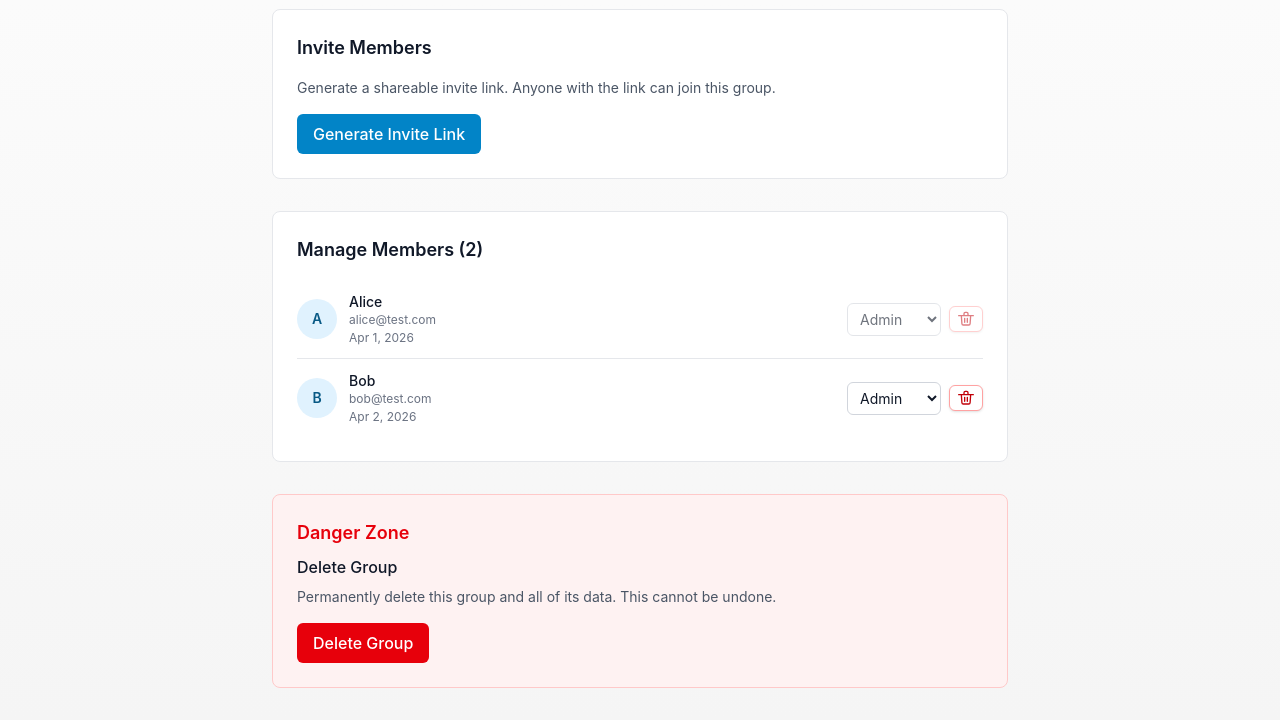
Test: GroupSettingsPage › opens the delete dialog and disables confirm until name matches
(page scrolled)
Click the button with test id "group-settings-open-delete-btn" at [363, 643], box left=297, top=623, right=429, bottom=663
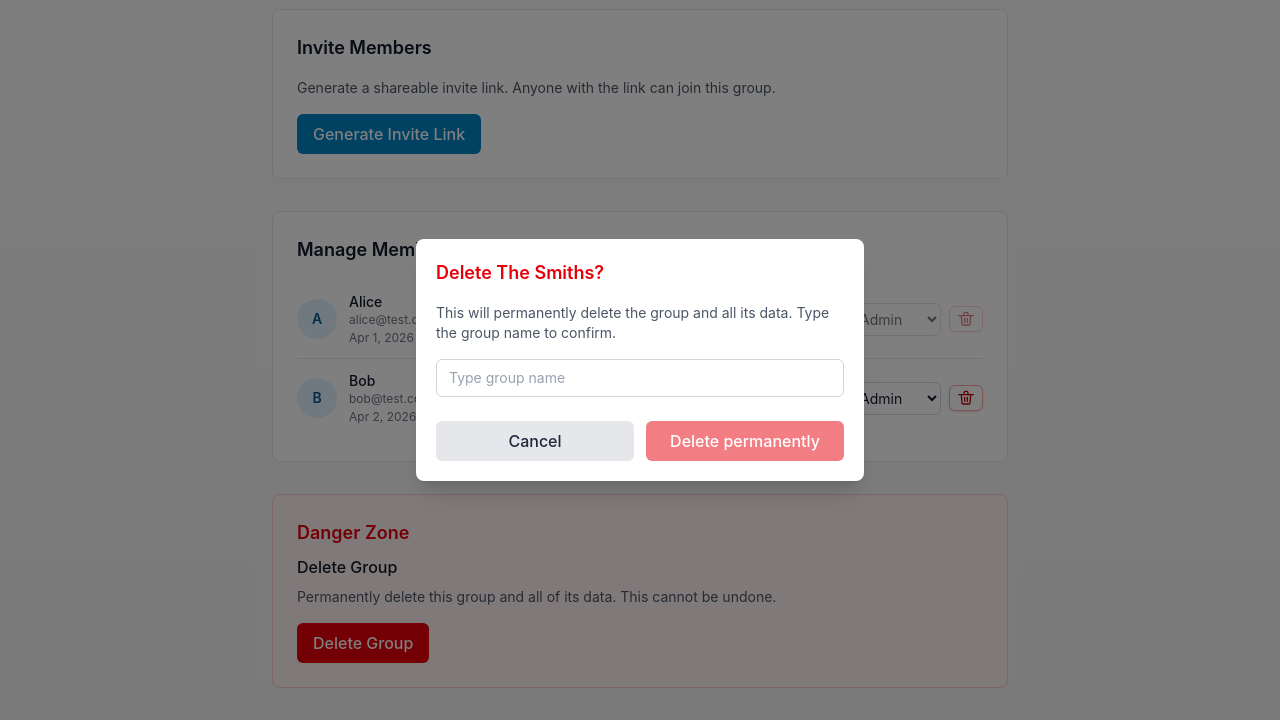
Expected: the dialog with test id "group-settings-delete-dialog" is shown, left=416, top=239, right=864, bottom=481
Expected: the button with test id "group-settings-delete-confirm-btn" is disabled, left=646, top=421, right=844, bottom=461
Type "wrong" into the field with test id "group-settings-delete-confirm-input" at [640, 378], box left=436, top=359, right=844, bottom=397
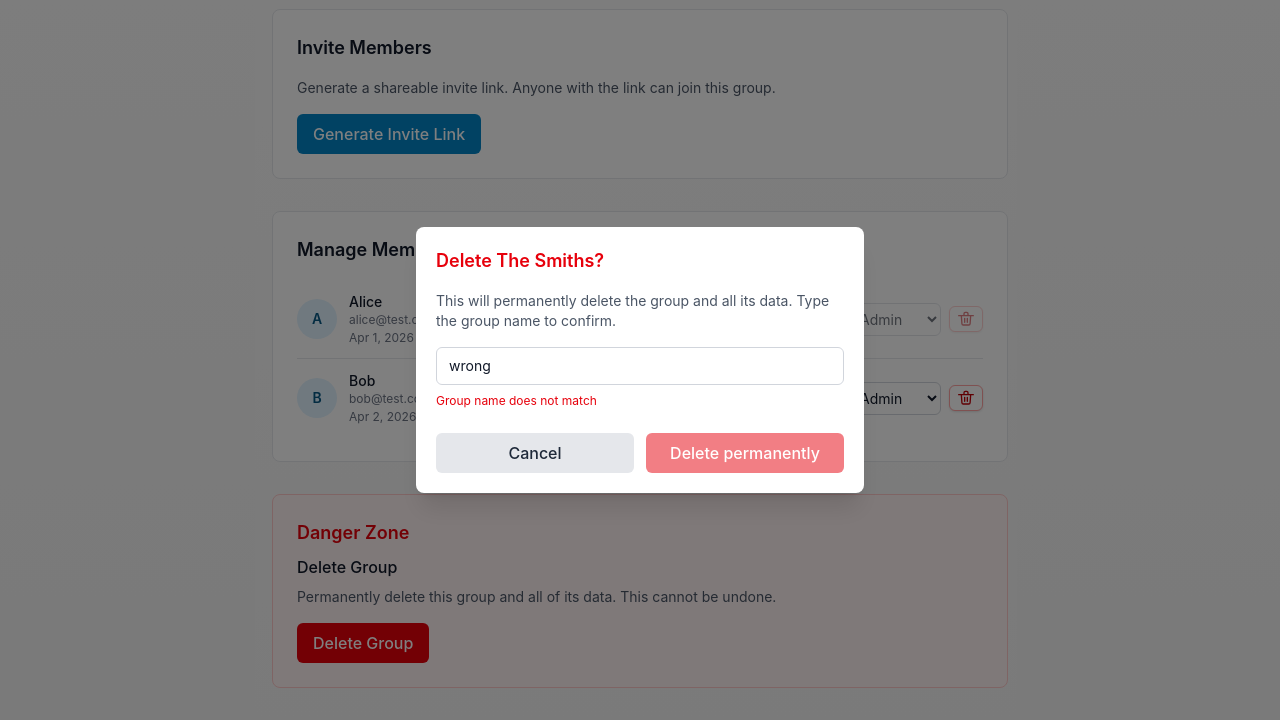
Expected: the button with test id "group-settings-delete-confirm-btn" is disabled, left=646, top=433, right=844, bottom=473
Expected: the text "Group name does not match" is shown, left=436, top=393, right=597, bottom=408
Replace the text in the field with test id "group-settings-delete-confirm-input" with "The Smiths" at [640, 366], box left=436, top=347, right=844, bottom=385
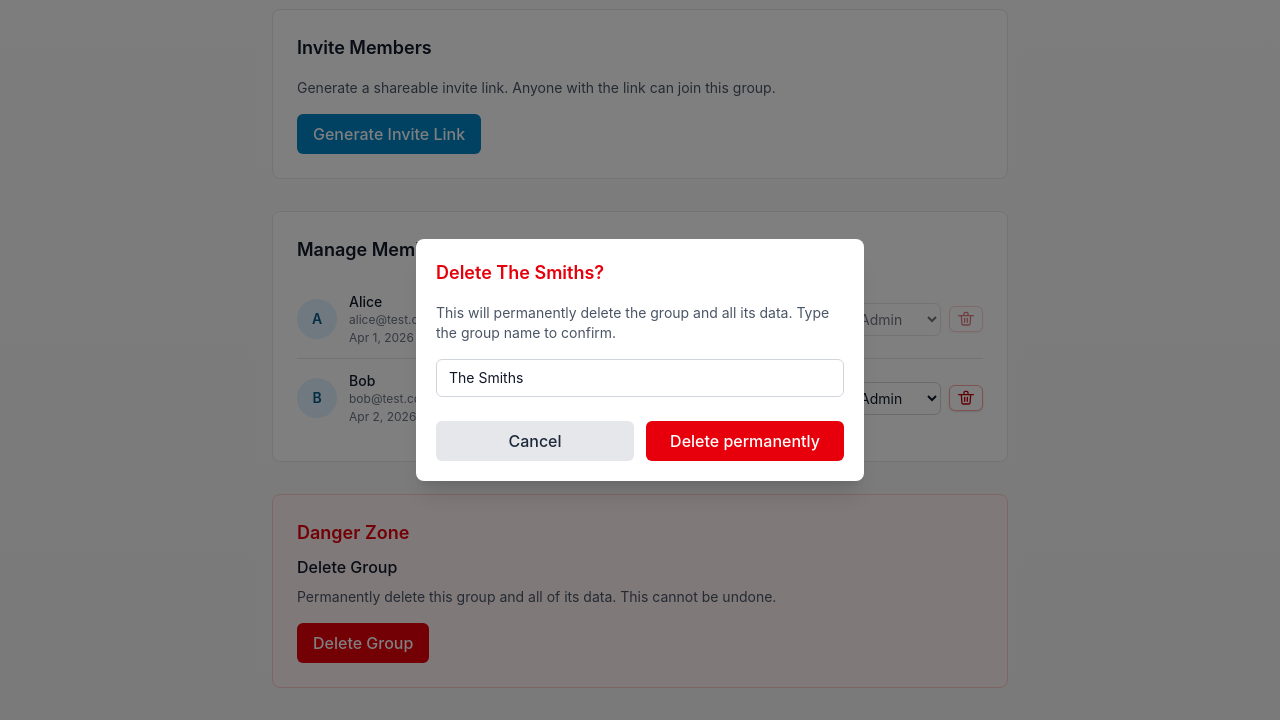
Expected: the button with test id "group-settings-delete-confirm-btn" is enabled, left=646, top=421, right=844, bottom=461
